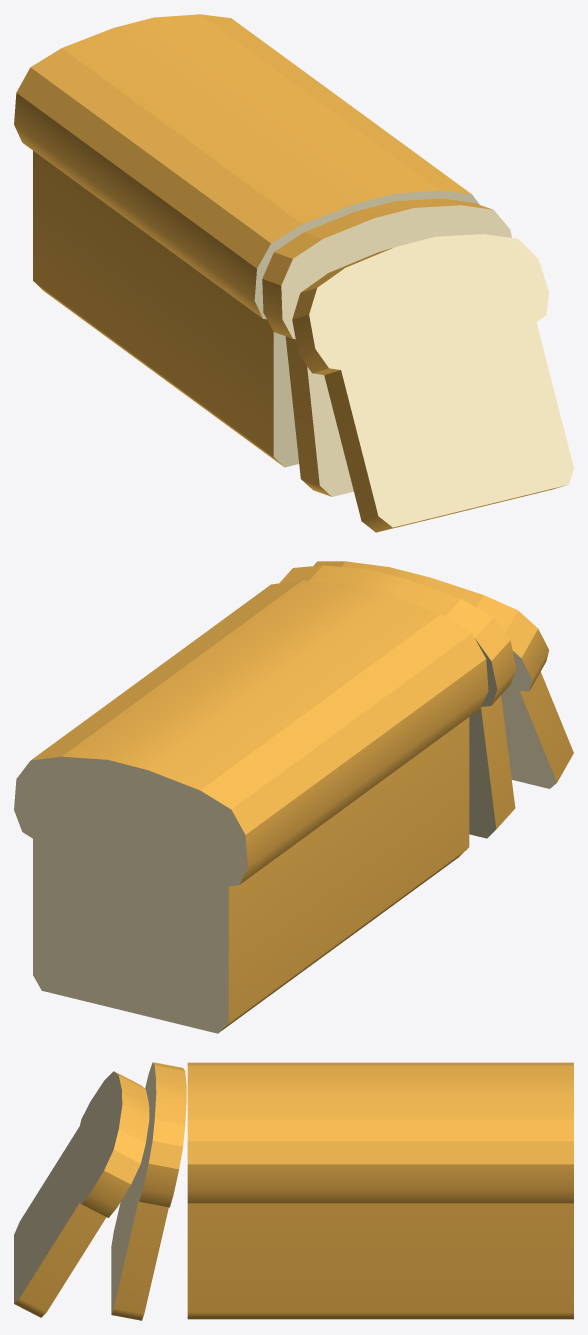
Rendered from Pan.fbx.
The picture shows the model from 3 angles, top to bottom: view 1: azimuth 30°, elevation 25°; view 2: azimuth 150°, elevation 25°; view 3: azimuth 270°, elevation 25°; orthographic projection. The views are drawn at different scales.
Visible parts, largest first — view 1: pCube4; view 2: pCube4; view 3: pCube4.
Part boxes in pixels (left/top/right/bottom): pCube4: left=14, top=14, right=573, bottom=532; pCube4: left=14, top=561, right=573, bottom=1033; pCube4: left=14, top=1062, right=573, bottom=1320.
Bounding box in the file's own units: 2.44 × 2.48 × 6.3.
